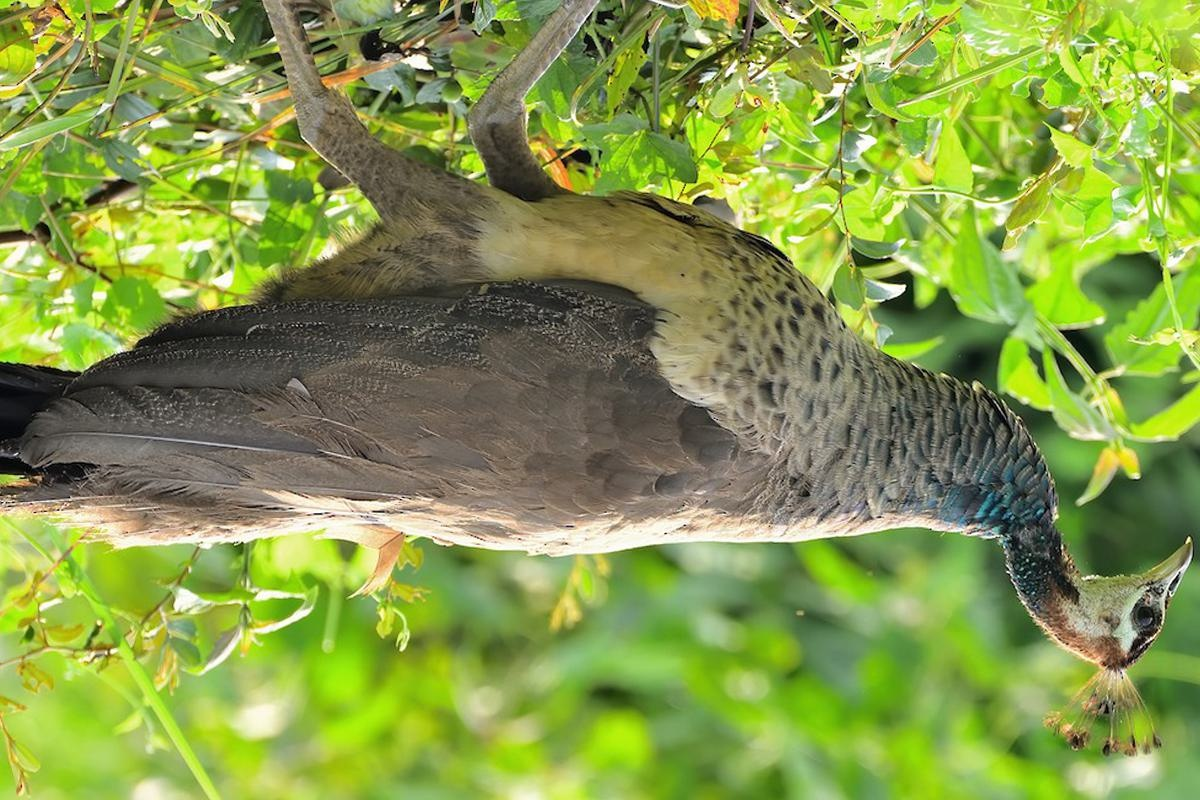peacock: (161, 85, 1177, 721)
